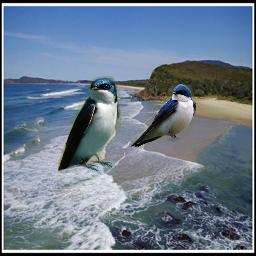Swallow: (58, 76, 121, 175), (130, 84, 196, 148)
